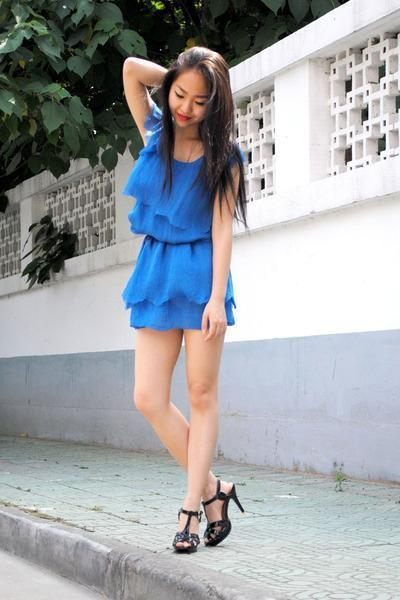dress: (122, 108, 235, 330)
pants: (207, 481, 244, 515)
shoe: (173, 509, 231, 553)
